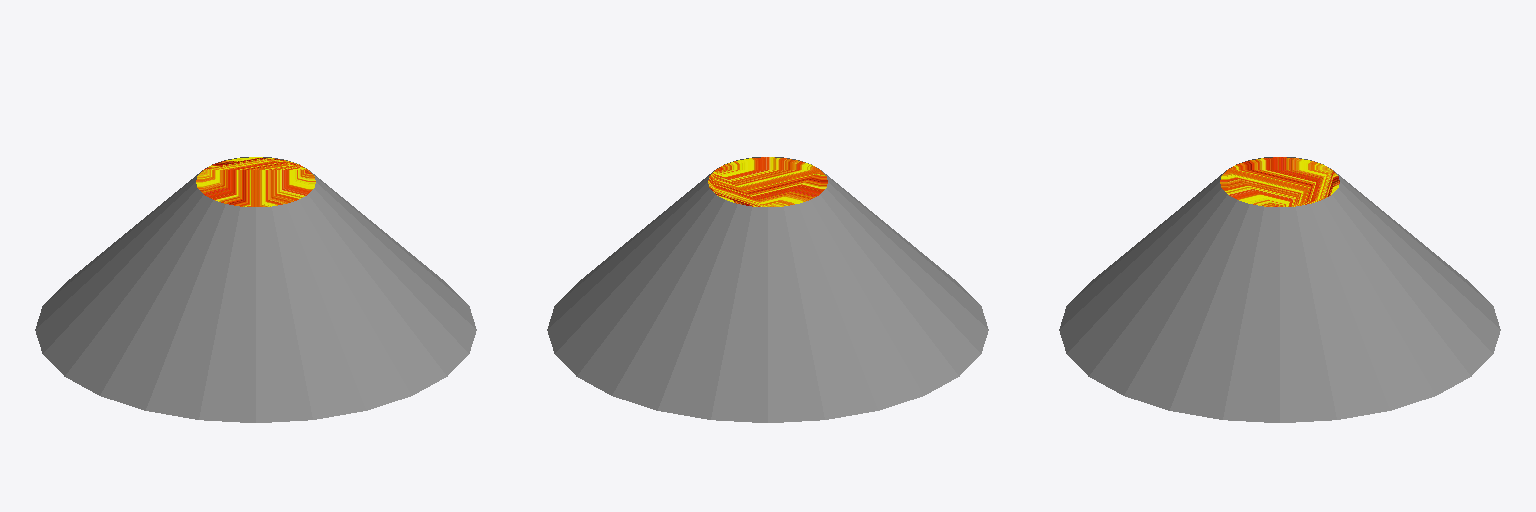
3 views of the same model, side by side, from view 1: azimuth 30°, elevation 25°; view 2: azimuth 150°, elevation 25°; view 3: azimuth 270°, elevation 25° (orthographic).
Parts seen in each view (by area): view 1: Cone001; view 2: Cone001; view 3: Cone001.
Boxes of the visible parts, box(x1,y1,x2,y2) form: Cone001: box(35, 157, 476, 422); Cone001: box(547, 157, 988, 422); Cone001: box(1059, 157, 1500, 422).
Bounding box in the file's own units: 37.81 × 13.98 × 37.81.
2 materials, 1 textured.